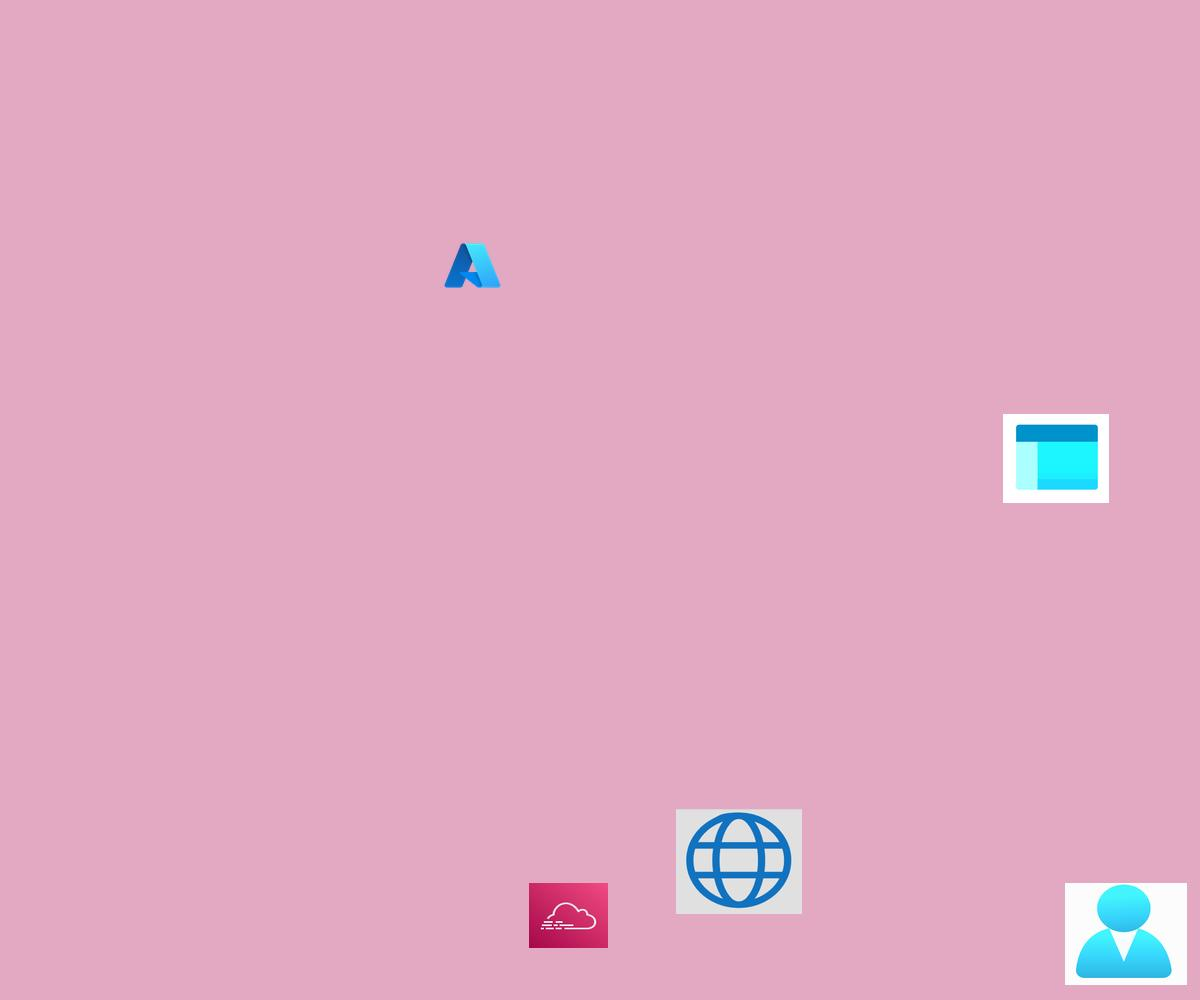AWS-CloudTrail: (529, 883, 608, 948)
Azure_http: (676, 809, 802, 914)
Azure_management-portal: (1003, 414, 1109, 503)
Azure_services: (442, 240, 503, 291)
Azure_users: (1065, 883, 1187, 985)
